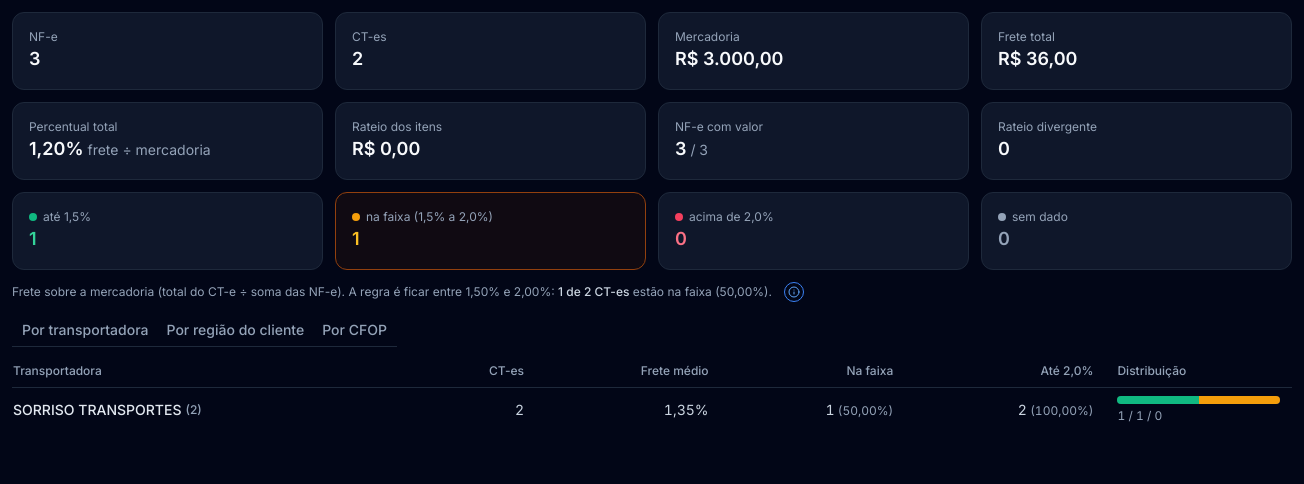
Test: Dashboard › troca para o breakdown por CFOP e conta as NF-e
Click the tab "Por CFOP" at (355, 330), box x1=315 y1=317 x2=394 y2=343
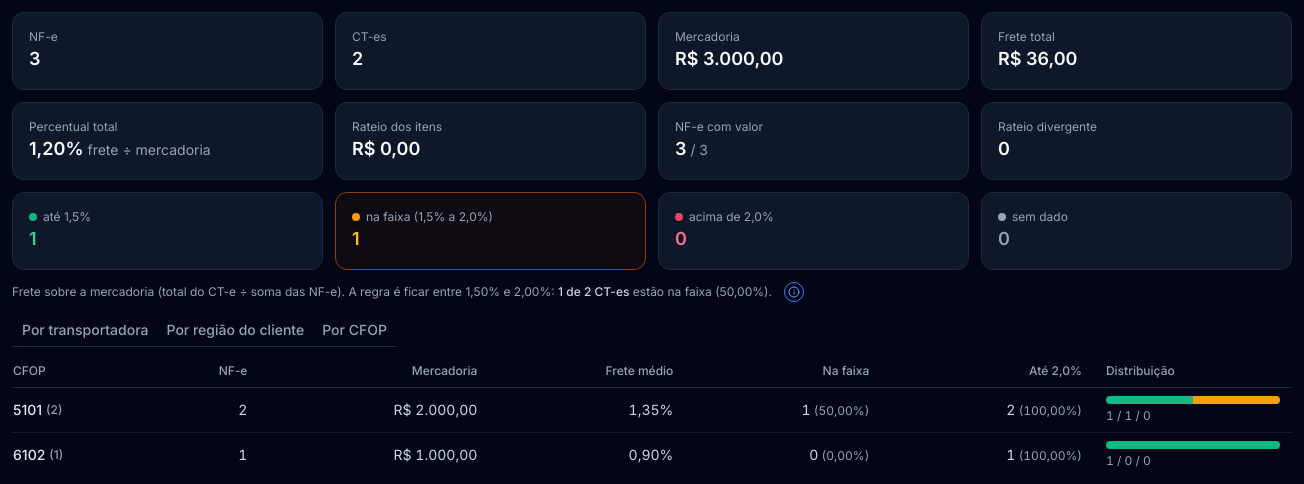
expect the text "5101" shows "2": met, box x1=13 y1=400 x2=135 y2=420
expect the button "6102 (1)" is shown: met, box x1=13 y1=445 x2=135 y2=465
